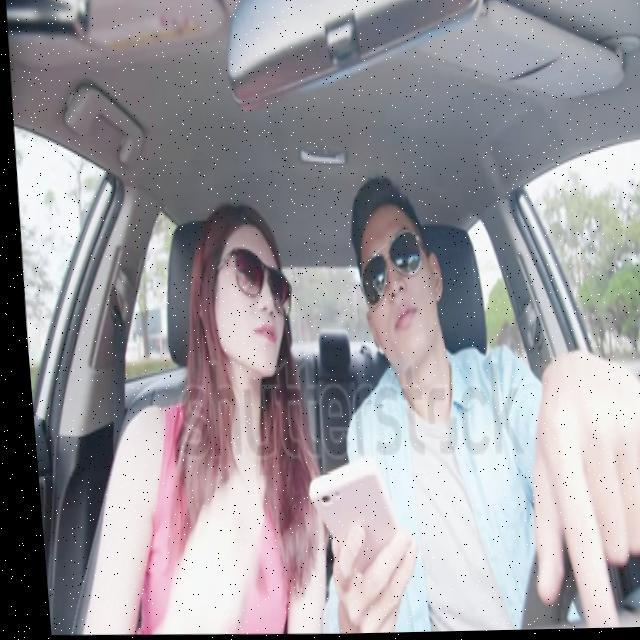PhoneCall: (292, 450, 388, 588)
